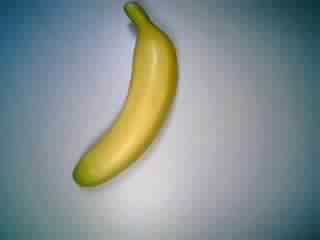banana: (68, 1, 183, 191)
